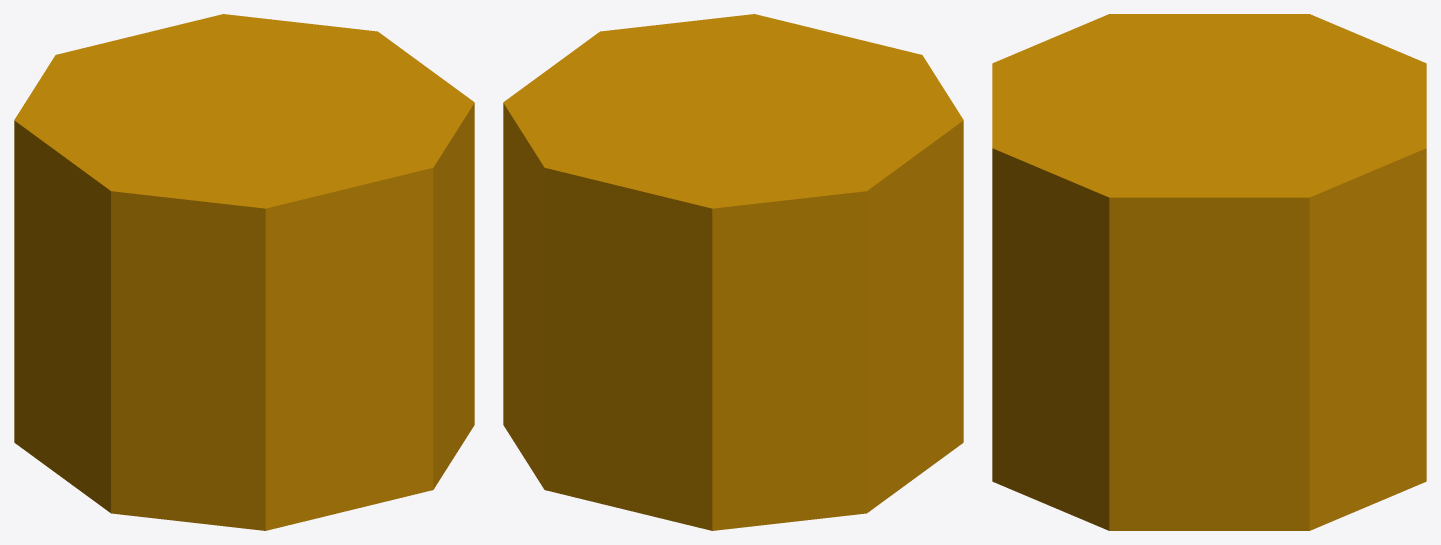
Rendered from Base_col.obj.
3 renders of one model, left to right at view 1: azimuth 30°, elevation 25°; view 2: azimuth 150°, elevation 25°; view 3: azimuth 270°, elevation 25°, orthographic. The views are drawn at different scales.
Visible parts, largest first — view 1: Base_col; view 2: Base_col; view 3: Base_col.
Part boxes in pixels (<box>): Base_col: <box>14,14,474,530</box>; Base_col: <box>503,14,963,530</box>; Base_col: <box>992,14,1426,530</box>.
Size of the model in its own units: 4.89 by 4.14 by 4.89.
